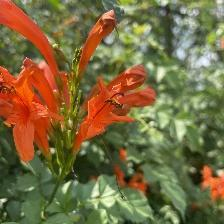honeysuckle: (84, 85, 130, 154)
